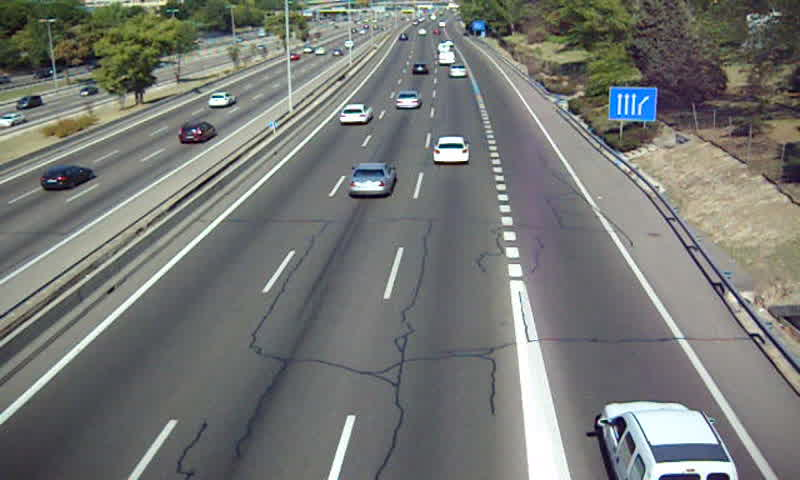car: (349, 163, 395, 197), (433, 136, 468, 165), (339, 103, 371, 125), (395, 90, 422, 111), (449, 64, 468, 79), (410, 63, 429, 77)
van: (599, 401, 739, 480), (437, 52, 457, 66)
